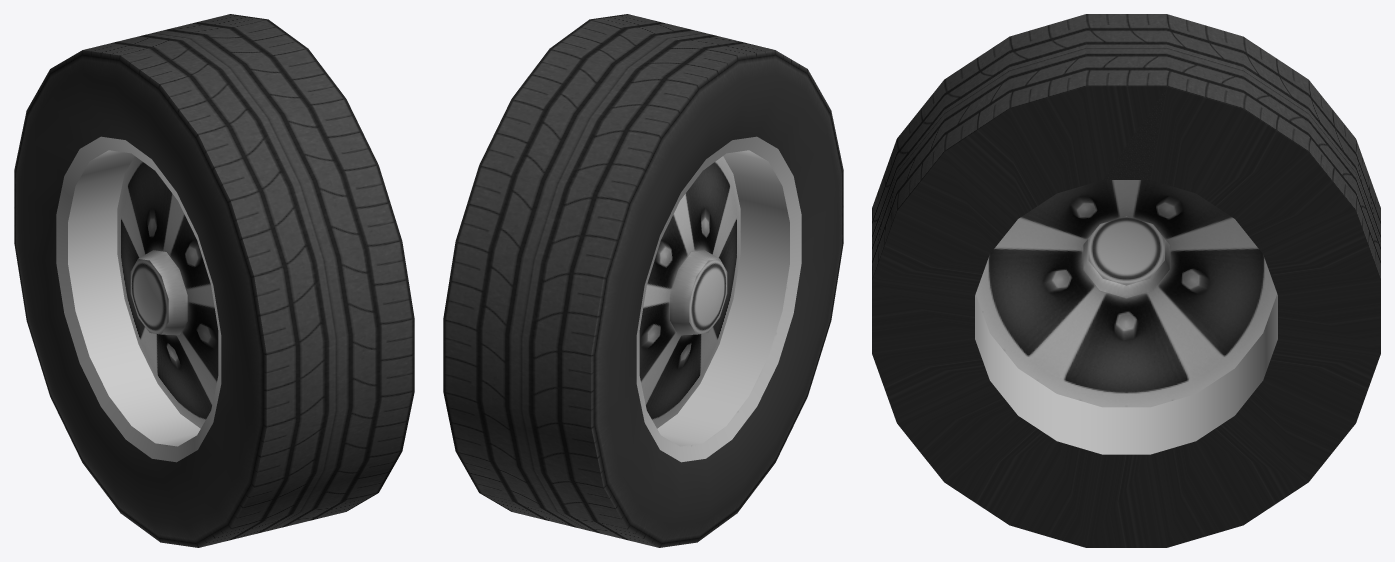
File: GTO_Alloy01.fbx
3 views of the same model, side by side, from view 1: azimuth 30°, elevation 25°; view 2: azimuth 150°, elevation 25°; view 3: azimuth 270°, elevation 25° (orthographic).
Parts seen in each view (by area): view 1: Empty_Mesh; view 2: Empty_Mesh; view 3: Empty_Mesh.
Part boxes in pixels (box(x1,y1,x2,y2)): Empty_Mesh: box(14, 14, 414, 547); Empty_Mesh: box(443, 14, 843, 547); Empty_Mesh: box(872, 14, 1380, 547).
Size of the model in its own units: 24.66 by 68 by 68.
